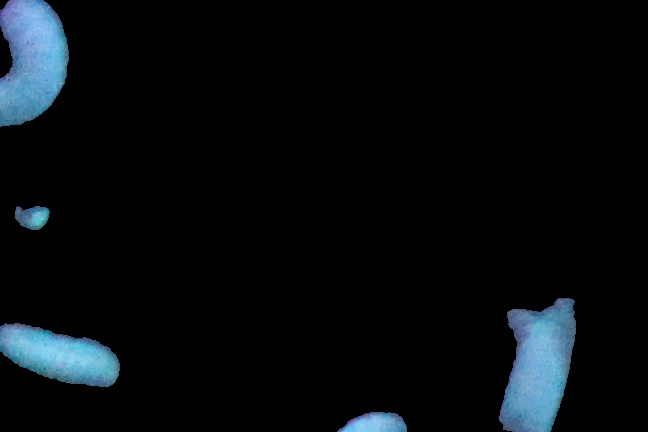larvae: (501, 303, 585, 432), (1, 1, 69, 123), (2, 319, 120, 387)
